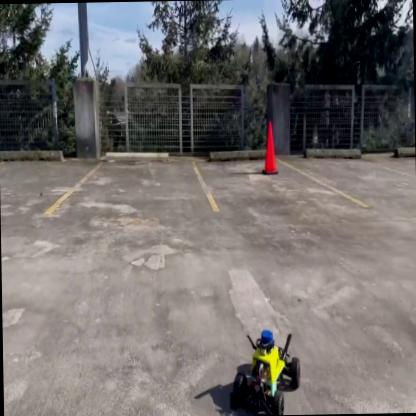cone: (259, 120, 279, 176)
mushr_car: (230, 322, 303, 414)
